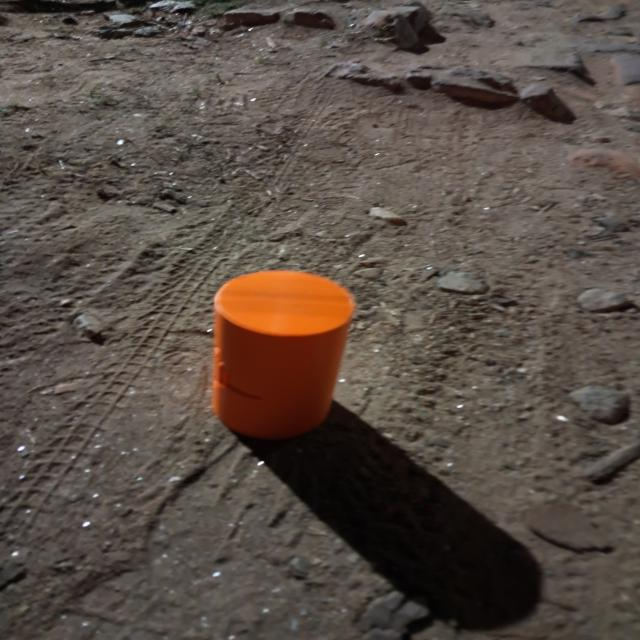Cylinder: (210, 269, 356, 440)
